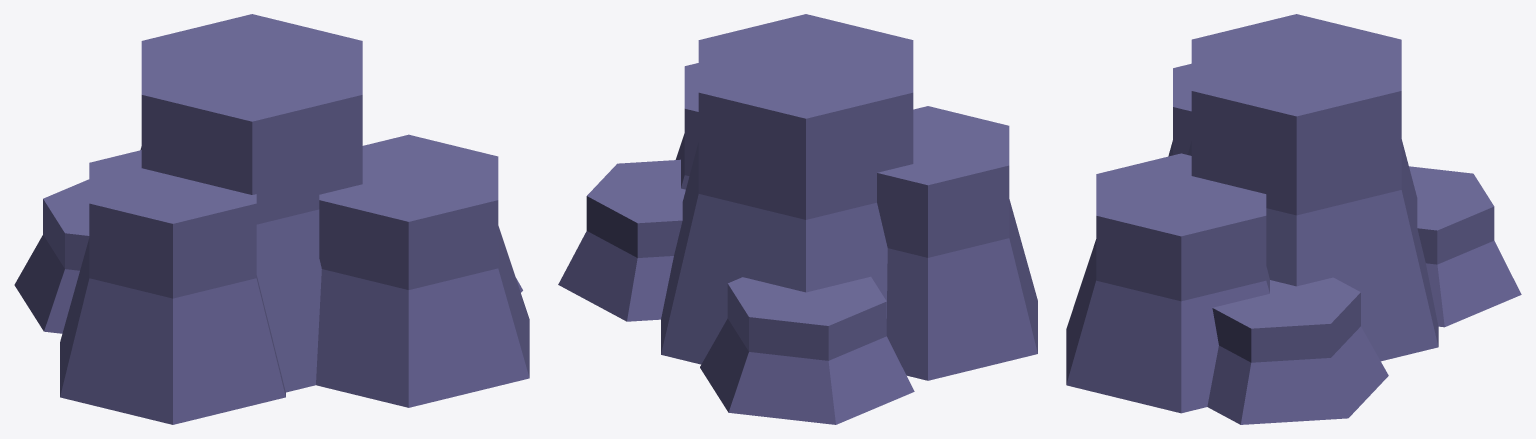
File: rock-2.glb
3 renders of one model, left to right at view 1: azimuth 30°, elevation 25°; view 2: azimuth 150°, elevation 25°; view 3: azimuth 270°, elevation 25°, orthographic. The views are drawn at different scales.
Parts seen in each view (by area): view 1: rock_largeA; view 2: rock_largeA; view 3: rock_largeA.
Boxes of the visible parts, x1,y1,x2,y2 form: rock_largeA: [14, 14, 529, 424]; rock_largeA: [558, 14, 1037, 424]; rock_largeA: [1066, 14, 1521, 424].
Bounding box in the file's own units: 0.9193 × 0.5 × 0.8339.
